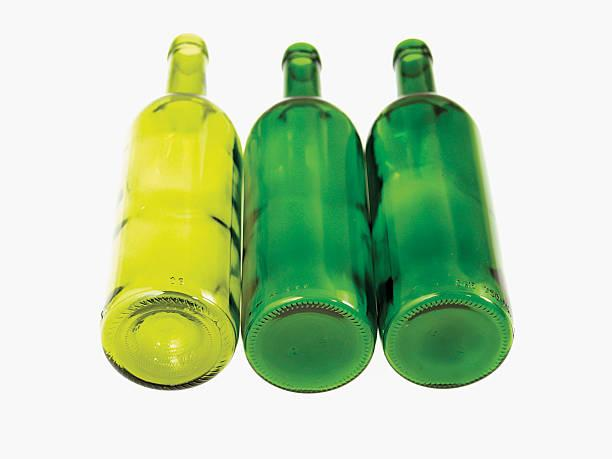glass: (365, 40, 514, 391), (100, 35, 240, 391), (237, 43, 375, 393)
